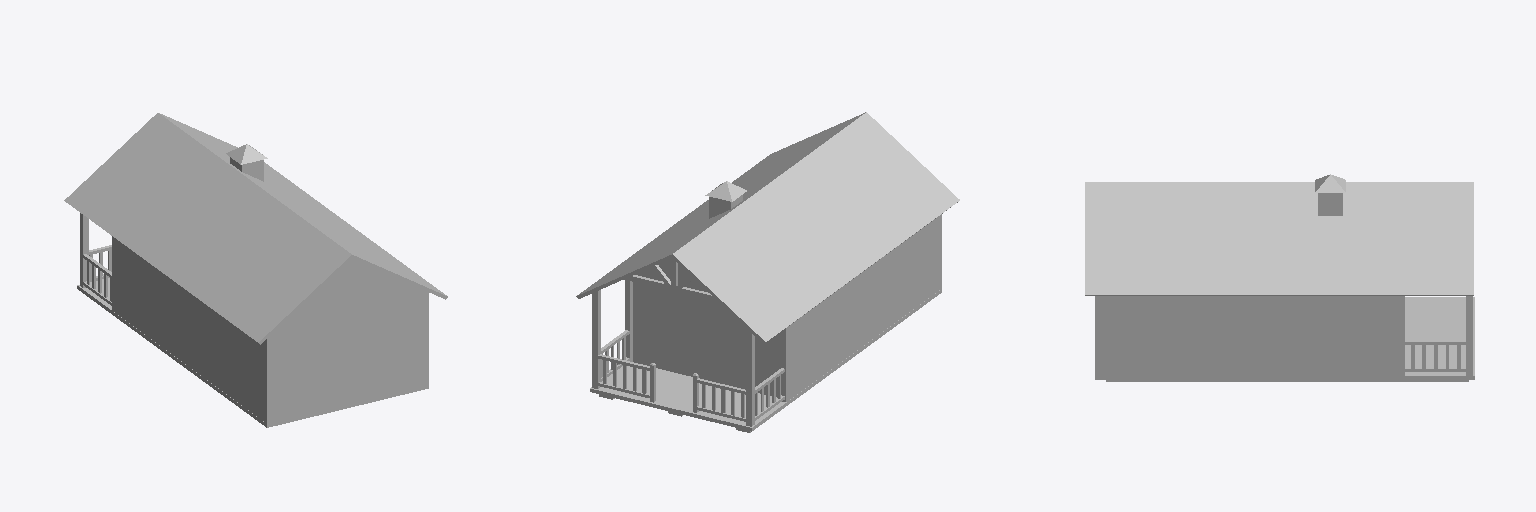
The model's file is Snow covered CottageOBJ.obj.
3 renders of one model, left to right at view 1: azimuth 30°, elevation 25°; view 2: azimuth 150°, elevation 25°; view 3: azimuth 270°, elevation 25°, orthographic.
Parts seen in each view (by area): view 1: Snow_covered_CottageOBJ; view 2: Snow_covered_CottageOBJ; view 3: Snow_covered_CottageOBJ.
Boxes of the visible parts, <box> form: Snow_covered_CottageOBJ: <box>64,113,447,427</box>; Snow_covered_CottageOBJ: <box>576,112,959,432</box>; Snow_covered_CottageOBJ: <box>1085,174,1474,381</box>.
Bounding box in the file's own units: 65.76 × 59.31 × 117.